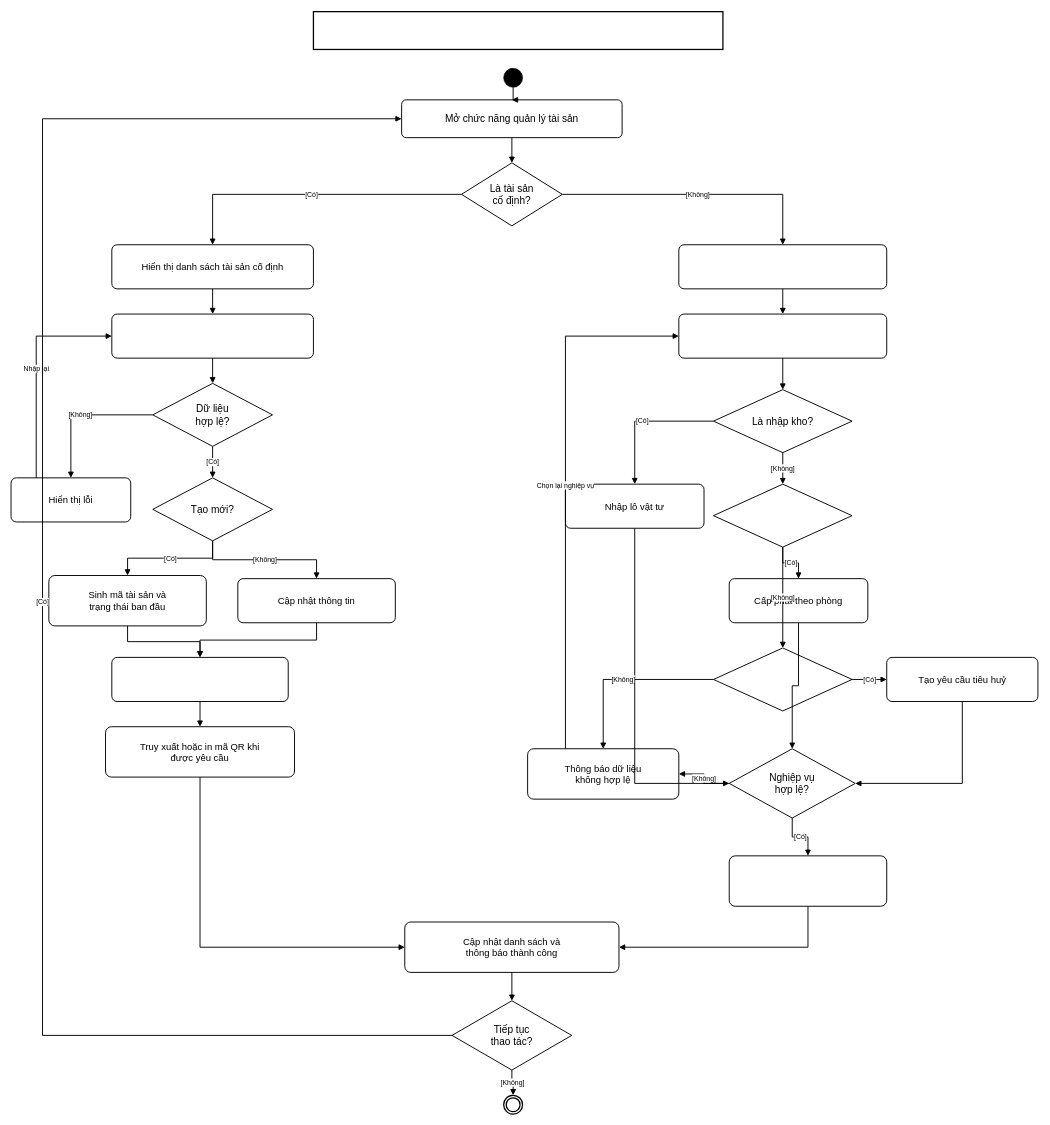
Some shapes in this 1050 by 1125 pixel diagram are drawn without their labels. Each missing label, with the centre of its shape:
Chọn nghiệp vụ vật tư tiêu hao: (x=782, y=335)
Cập nhật tồn kho, lô và lịch sử: (x=807, y=880)
Hiển thị danh sách vật tư tiêu hao: (x=782, y=266)
Là cấp phát?: (x=782, y=515)
Là tiêu huỷ?: (x=782, y=679)
Lưu tài sản vào cơ sở dữ liệu: (x=199, y=679)
Nhập hoặc cập nhật thông tin tài sản: (x=212, y=335)
QUẢN LÝ TÀI SẢN VÀ VẬT TƯ TIÊU HAO: (x=517, y=30)
